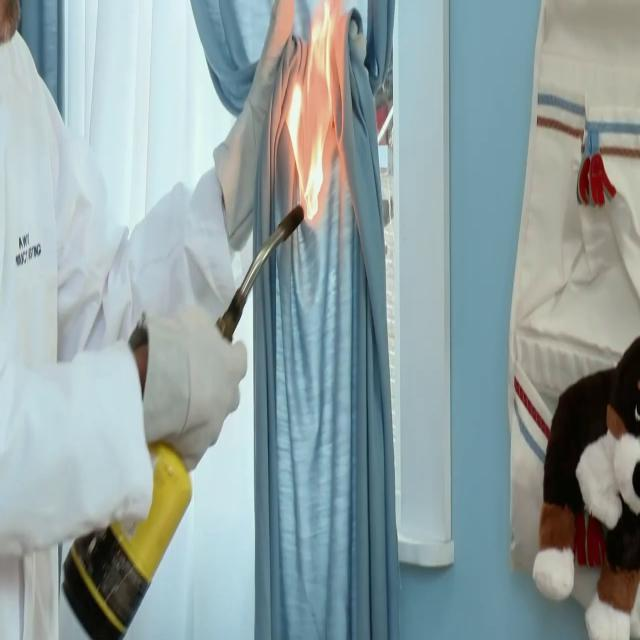Fire: (286, 1, 354, 221)
